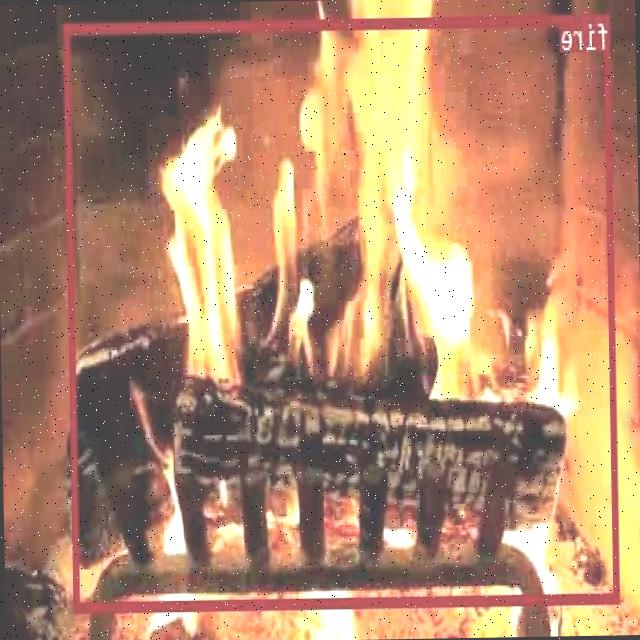fire: (64, 12, 620, 611)
